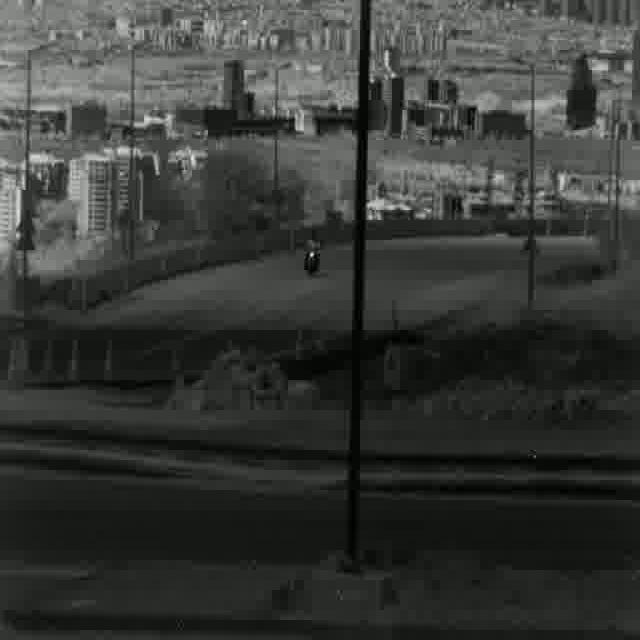Motorcycle: (299, 229, 324, 276)
